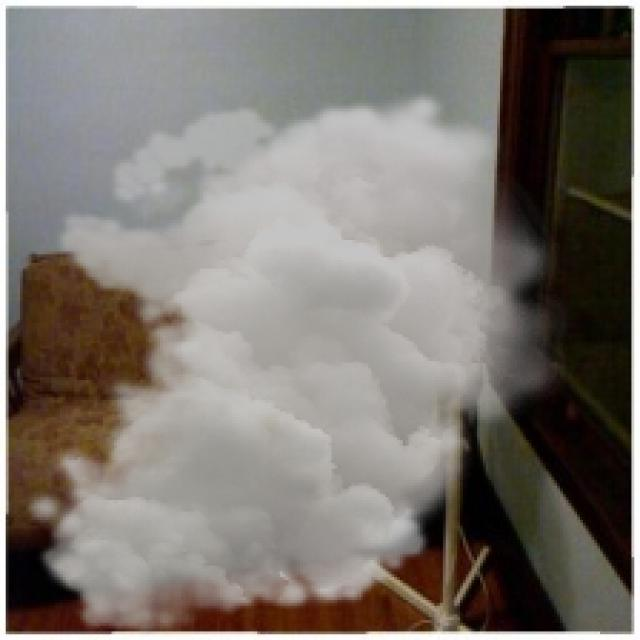smoke: (20, 89, 571, 637)
